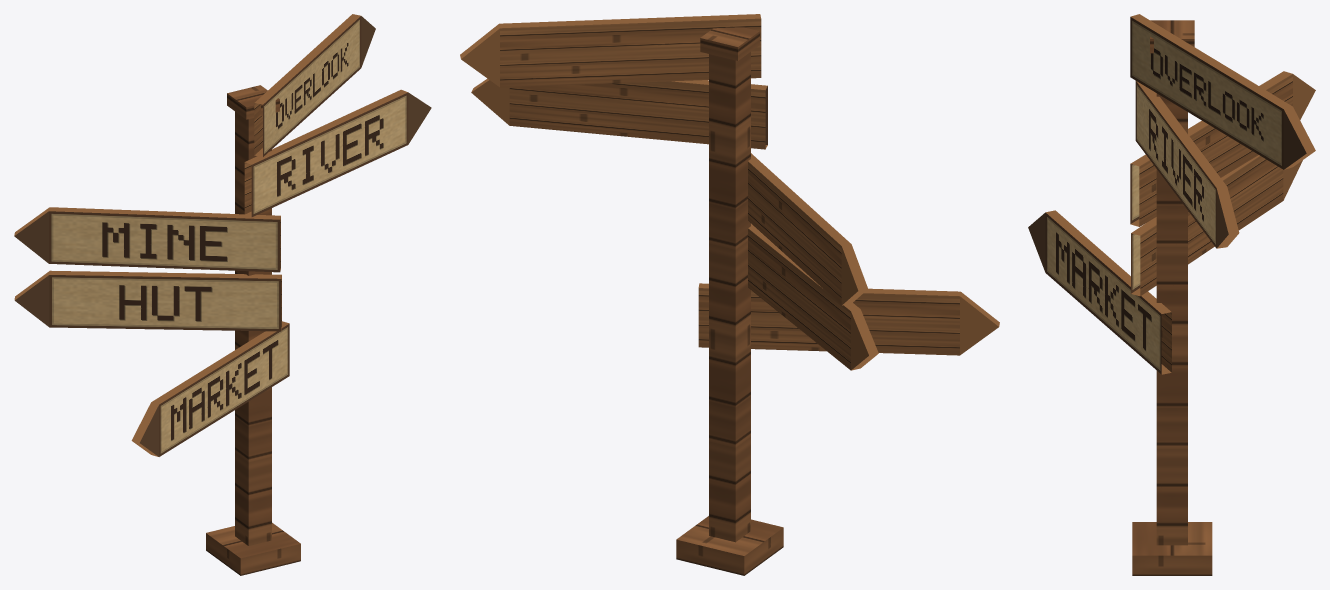
The model's file is townSignpost.glb.
3 renders of one model, left to right at view 1: azimuth 30°, elevation 25°; view 2: azimuth 150°, elevation 25°; view 3: azimuth 270°, elevation 25°, orthographic. The views are drawn at different scales.
Visible parts, largest first — view 1: townSignpost; view 2: townSignpost; view 3: townSignpost.
Part boxes in pixels (left/top/right/bottom): townSignpost: left=14, top=14, right=431, bottom=575; townSignpost: left=460, top=14, right=999, bottom=575; townSignpost: left=1028, top=14, right=1315, bottom=575.
Size of the model in its own units: 2.32 by 2.66 by 1.29.
7 materials, 7 textured.
